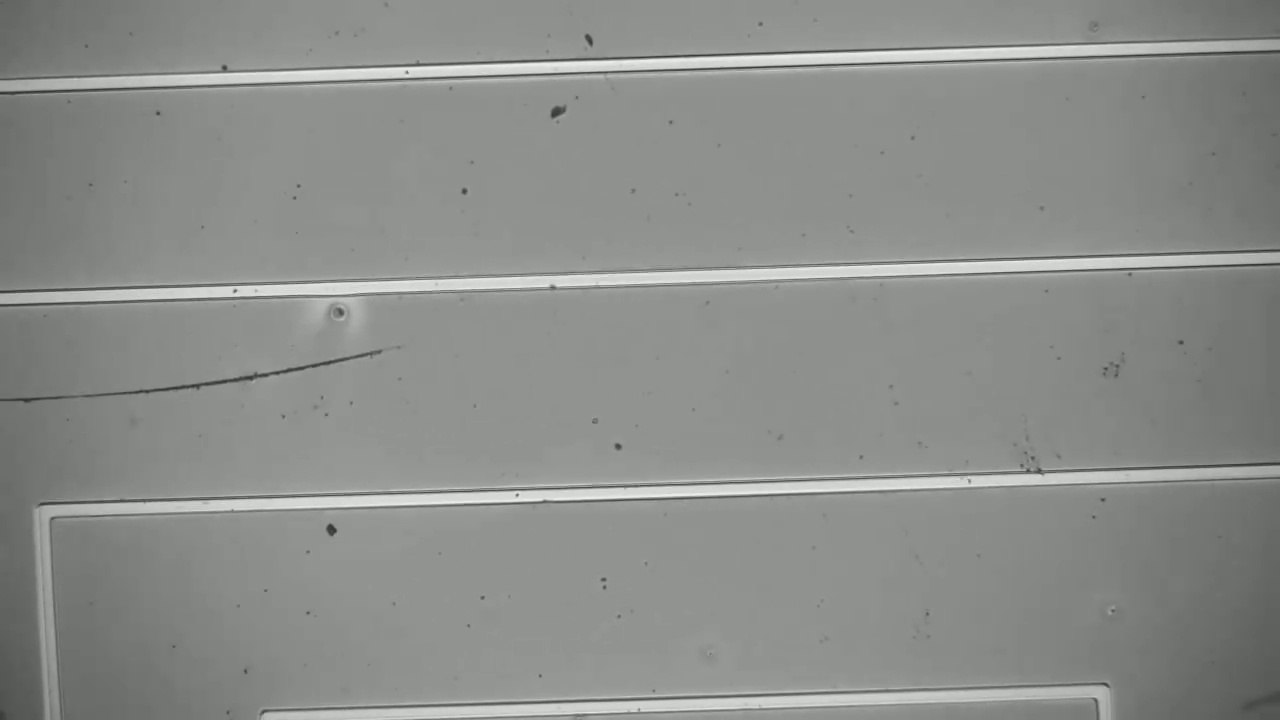scratch: (0, 354, 396, 418)
